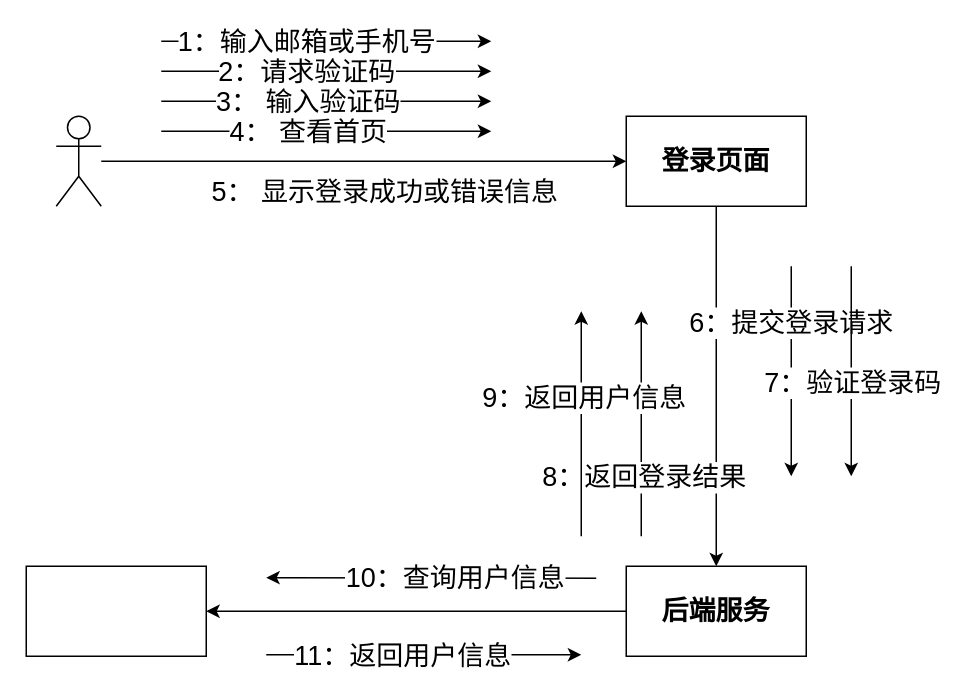
Some shapes in this 966 by 698 pixel diagram are drawn without their labels. Here are the shapes that lost their labels. From the top down, the centre of each, then its label:
the point at 78,160: 用户
the point at 115,610: 数据库
